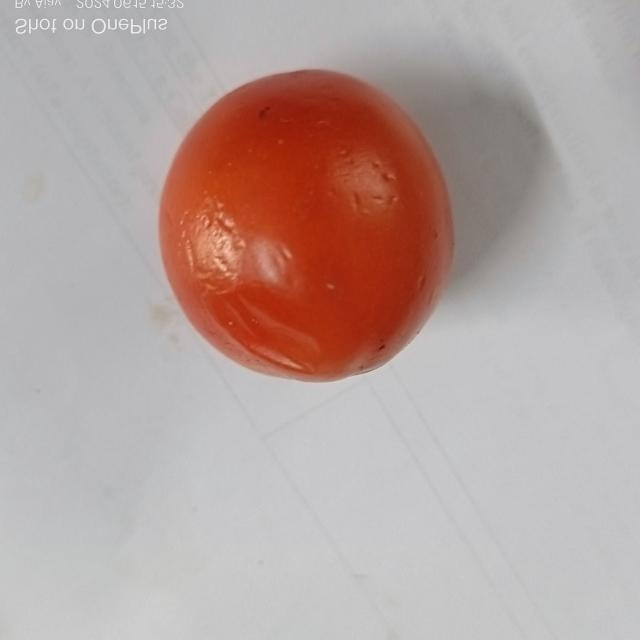Botrytis: (254, 104, 270, 122)
